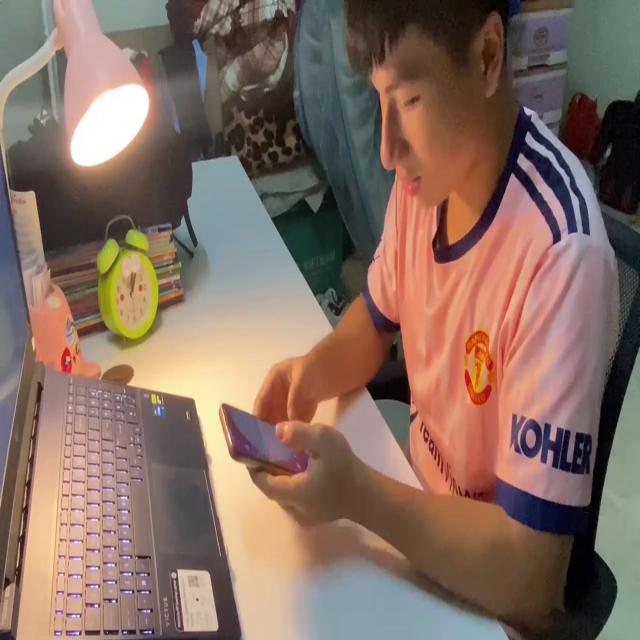laptop: (0, 130, 241, 640)
phone: (214, 394, 310, 478)
student: (248, 0, 622, 640)
